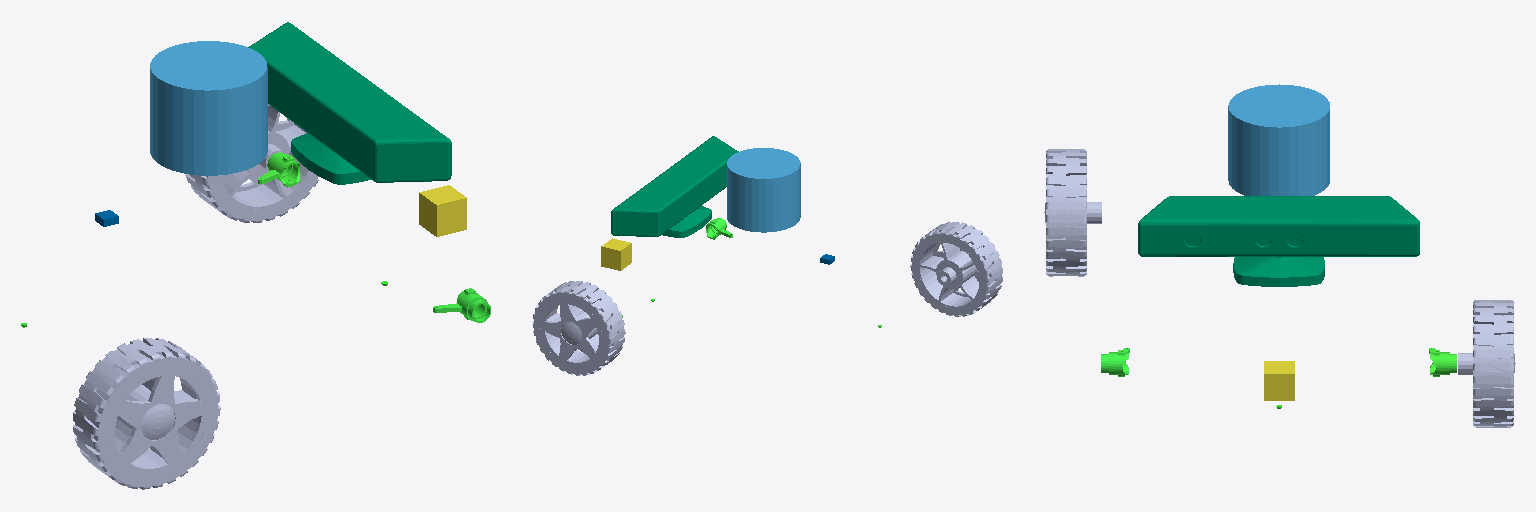
robot.urdf — cooneo_mini:
<?xml version="1.0" encoding="utf-8"?>
<!-- This URDF was automatically created by SolidWorks to URDF Exporter! Originally created by [author] ([email redacted]) 
     Commit Version: 1.5.1-0-g916b5db  Build Version: 1.5.7152.31018
     For more information, please see http://wiki.ros.org/sw_urdf_exporter -->
<robot
  name="cooneo_mini">
  <link
    name="base_link">
    <inertial>
      <origin
        xyz="0.030649671440691 -1.79069899872708E-05 0.0558717976709459"
        rpy="0 0 0" />
      <mass
        value="1.72617713171385" />
      <inertia
        ixx="0.0107311274569357"
        ixy="-3.24164649120244E-08"
        ixz="0.00169188715816868"
        iyy="0.0198871551919603"
        iyz="2.40252669081509E-07"
        izz="0.0269841937242323" />
    </inertial>
    <visual>
      <origin
        xyz="0 0 0"
        rpy="0 0 0" />
      <geometry>
        <mesh
          filename="package://cooneo_mini/meshes/base_link.STL" />
      </geometry>
      <material
        name="">
        <color
          rgba="0.250980392156863 0.250980392156863 0.250980392156863 1" />
      </material>
    </visual>
    <collision>
      <origin
        xyz="0 0 0"
        rpy="0 0 0" />
      <geometry>
        <mesh
          filename="package://cooneo_mini/meshes/base_link.STL" />
      </geometry>
    </collision>
  </link>
  <link
    name="rear_wheel_link">
    <inertial>
      <origin
        xyz="-8.88178419700125E-16 -2.05391259555654E-14 -0.00112500000001892"
        rpy="0 0 0" />
      <mass
        value="5.65486677646169E-05" />
      <inertia
        ixx="1.32005796313028E-10"
        ixy="-1.938704560671E-27"
        ixz="2.13770572261755E-26"
        iyy="1.32005796313028E-10"
        iyz="-7.60216295195271E-25"
        izz="2.03575203952622E-10" />
    </inertial>
    <visual>
      <origin
        xyz="0 0 0"
        rpy="0 0 0" />
      <geometry>
        <mesh
          filename="package://cooneo_mini/meshes/rear_wheel_link.STL" />
      </geometry>
      <material
        name="">
        <color
          rgba="0.274509803921569 1 0.247058823529412 1" />
      </material>
    </visual>
    <collision>
      <origin
        xyz="0 0 0"
        rpy="0 0 0" />
      <geometry>
        <mesh
          filename="package://cooneo_mini/meshes/rear_wheel_link.STL" />
      </geometry>
    </collision>
  </link>
  <joint
    name="rear_wheel_joint"
    type="continuous">
    <origin
      xyz="-0.181499999999597 0 0.0399999999987674"
      rpy="0 0 0" />
    <parent
      link="base_link" />
    <child
      link="rear_wheel_link" />
    <axis
      xyz="0 1 0" />
  </joint>
  <link
    name="left_rear_link">
    <inertial>
      <origin
        xyz="7.85229659072684E-11 -0.0196762547002777 4.85059770127805E-11"
        rpy="0 0 0" />
      <mass
        value="0.29556182905038" />
      <inertia
        ixx="0.000374087423652291"
        ixy="2.19336154342606E-13"
        ixz="-5.50404301757561E-12"
        iyy="0.000661017199375587"
        iyz="-5.10049385981967E-14"
        izz="0.000374087441459994" />
    </inertial>
    <visual>
      <origin
        xyz="0 0 0"
        rpy="0 0 0" />
      <geometry>
        <mesh
          filename="package://cooneo_mini/meshes/left_rear_link.STL" />
      </geometry>
      <material
        name="">
        <color
          rgba="0.792156862745098 0.819607843137255 0.933333333333333 1" />
      </material>
    </visual>
    <collision>
      <origin
        xyz="0 0 0"
        rpy="0 0 0" />
      <geometry>
        <mesh
          filename="package://cooneo_mini/meshes/left_rear_link.STL" />
      </geometry>
    </collision>
  </link>
  <joint
    name="left_rear_joint"
    type="continuous">
    <origin
      xyz="-0.181499999999595 0.228542434993694 0.0399999999991634"
      rpy="0 0 0" />
    <parent
      link="base_link" />
    <child
      link="left_rear_link" />
    <axis
      xyz="0 1 0" />
    <limit
      lower="-3.14"
      upper="3.14"
      effort="0"
      velocity="0" />
  </joint>
  <link
    name="right_rear_link">
    <inertial>
      <origin
        xyz="7.8521189550429E-11 0.0196762545376323 3.35983463273237E-11"
        rpy="0 0 0" />
      <mass
        value="0.295561829050389" />
      <inertia
        ixx="0.000374087423652306"
        ixy="-2.1933774523493E-13"
        ixz="5.50404145624456E-12"
        iyy="0.000661017199375601"
        iyz="-5.10073974604221E-14"
        izz="0.000374087441459995" />
    </inertial>
    <visual>
      <origin
        xyz="0 0 0"
        rpy="0 0 0" />
      <geometry>
        <mesh
          filename="package://cooneo_mini/meshes/right_rear_link.STL" />
      </geometry>
      <material
        name="">
        <color
          rgba="0.792156862745098 0.819607843137255 0.933333333333333 1" />
      </material>
    </visual>
    <collision>
      <origin
        xyz="0 0 0"
        rpy="0 0 0" />
      <geometry>
        <mesh
          filename="package://cooneo_mini/meshes/right_rear_link.STL" />
      </geometry>
    </collision>
  </link>
  <joint
    name="right_rear_joint"
    type="continuous">
    <origin
      xyz="-0.181499999999595 -0.228542434994426 0.0399999999991584"
      rpy="0 0 0" />
    <parent
      link="base_link" />
    <child
      link="right_rear_link" />
    <axis
      xyz="0 1 0" />
    <limit
      lower="-3.14"
      upper="3.14"
      effort="0"
      velocity="0" />
  </joint>
  <link
    name="front_steer_link">
    <inertial>
      <origin
        xyz="-2.1316282072803E-14 3.67778030252452E-11 -0.00112486602459905"
        rpy="0 0 0" />
      <mass
        value="5.65486677646163E-05" />
      <inertia
        ixx="1.32005796313026E-10"
        ixy="1.16322273640277E-26"
        ixz="1.20446157864484E-28"
        iyy="1.32005796313026E-10"
        iyz="-8.66481261175625E-27"
        izz="2.03575203952619E-10" />
    </inertial>
    <visual>
      <origin
        xyz="0 0 0"
        rpy="0 0 0" />
      <geometry>
        <mesh
          filename="package://cooneo_mini/meshes/front_steer_link.STL" />
      </geometry>
      <material
        name="">
        <color
          rgba="0.274509803921569 1 0.247058823529412 1" />
      </material>
    </visual>
    <collision>
      <origin
        xyz="0 0 0"
        rpy="0 0 0" />
      <geometry>
        <mesh
          filename="package://cooneo_mini/meshes/front_steer_link.STL" />
      </geometry>
    </collision>
  </link>
  <joint
    name="front_steer_joint"
    type="revolute">
    <origin
      xyz="0.172883370897628 0 -0.00376561854722868"
      rpy="0 0 0" />
    <parent
      link="base_link" />
    <child
      link="front_steer_link" />
    <axis
      xyz="0 0 1" />
    <limit
      lower="0"
      upper="0"
      effort="0"
      velocity="0" />
  </joint>
  <link 
    name="front_steer_right_link">
    <inertial>
      <origin
        xyz="-0.00287984917571293 -0.00386608730391069 -3.40232166884391E-07"
        rpy="0 0 0" />
      <mass
        value="0.0040422891288534" />
      <inertia
        ixx="3.86012893948649E-07"
        ixy="1.06107136042318E-07"
        ixz="3.79981674665978E-12"
        iyy="5.70282019991041E-07"
        iyz="-5.11429253547313E-13"
        izz="5.85222511682915E-07" />
    </inertial>
    <visual>
      <origin
        xyz="0 0 0"
        rpy="0 0 0" />
      <geometry>
        <mesh
          filename="package://cooneo_mini/meshes/front_steer_right_link.STL" />
      </geometry>
      <material
        name="">
        <color
          rgba="0.309803921568627 1 0.333333333333333 1" />
      </material>
    </visual>
    <collision>
      <origin
        xyz="0 0 0"
        rpy="0 0 0" />
      <geometry>
        <mesh
          filename="package://cooneo_mini/meshes/front_steer_right_link.STL" />
      </geometry>
    </collision>
  </link>
  <joint
    name="front_steer_right_joint"
    type="revolute">
    <origin
      xyz="0.166956116911345 -0.155841156930144 0.0396253020756132"
      rpy="0 0 0" />
    <parent
      link="base_link" />
    <child
      link="front_steer_right_link" />
    <axis
      xyz="0 0 -1" />
    <limit
      lower="-0.72"
      upper="0.72"
      effort="0"
      velocity="0" />
  </joint>
  <link
    name="front_right_wheel_link">
    <inertial>
      <origin
        xyz="9.44636555644252E-08 -0.000295273745285485 -8.13046296954667E-11"
        rpy="0 0 0" />
      <mass
        value="0.296315811300368" />
      <inertia
        ixx="0.000374692013709393"
        ixy="-9.17172260383823E-08"
        ixz="-2.43187512356516E-12"
        iyy="0.000661029987747155"
        iyz="1.9736939507106E-13"
        izz="0.000374691963930348" />
    </inertial>
    <visual>
      <origin
        xyz="0 0 0"
        rpy="0 0 0" />
      <geometry>
        <mesh
          filename="package://cooneo_mini/meshes/front_right_wheel_link.STL" />
      </geometry>
      <material
        name="">
        <color
          rgba="0.792156862745098 0.819607843137255 0.933333333333333 1" />
      </material>
    </visual>
    <collision>
      <origin
        xyz="0 0 0"
        rpy="0 0 0" />
      <geometry>
        <mesh
          filename="package://cooneo_mini/meshes/front_right_wheel_link.STL" />
      </geometry>
    </collision>
  </link>
  <joint
    name="front_right_wheel_joint"
    type="continuous">
    <origin
      xyz="0.000561692482209608 -0.0539588407104827 0"
      rpy="0 0 0" />
    <parent
      link="front_steer_right_link" />
    <child
      link="front_right_wheel_link" />
    <axis
      xyz="-0.000320310780620463 0.999999948700501 0" />
  </joint>
  <link
    name="front_steer_left_link">
    <inertial>
      <origin
        xyz="-0.00288108186855052 0.00386516380026081 3.42000268327425E-07"
        rpy="0 0 0" />
      <mass
        value="0.00404229099686961" />
      <inertia
        ixx="3.86080919831873E-07"
        ixy="-1.06166007770352E-07"
        ixz="-3.89689093687787E-12"
        iyy="5.70214085517416E-07"
        iyz="-5.05814872179496E-13"
        izz="5.85222543205337E-07" />
    </inertial>
    <visual>
      <origin
        xyz="0 0 0"
        rpy="0 0 0" />
      <geometry>
        <mesh
          filename="package://cooneo_mini/meshes/front_steer_left_link.STL" />
      </geometry>
      <material
        name="">
        <color
          rgba="0.333333333333333 1 0.309803921568627 1" />
      </material>
    </visual>
    <collision>
      <origin
        xyz="0 0 0"
        rpy="0 0 0" />
      <geometry>
        <mesh
          filename="package://cooneo_mini/meshes/front_steer_left_link.STL" />
      </geometry>
    </collision>
  </link>
  <joint
    name="front_steer_left_joint"
    type="revolute">
    <origin
      xyz="0.166955591258992 0.155840982540987 0.039624698003177"
      rpy="0 0 0" />
    <parent
      link="base_link" />
    <child
      link="front_steer_left_link" />
    <axis
      xyz="0 0 -1" />
    <limit
      lower="-0.72"
      upper="0.72"
      effort="0"
      velocity="0" />
  </joint>
  <link
    name="front_left_wheel_link">
    <inertial>
      <origin
        xyz="-3.99413835339146E-11 0.000295273997845347 1.08602016268833E-10"
        rpy="0 0 0" />
      <mass
        value="0.296315811293944" />
      <inertia
        ixx="0.00037469197851121"
        ixy="-1.84493877596723E-13"
        ixz="-9.50756757097929E-12"
        iyy="0.00066103001709398"
        iyz="-1.17866882205563E-13"
        izz="0.000374691969713977" />
    </inertial>
    <visual>
      <origin
        xyz="0 0 0"
        rpy="0 0 0" />
      <geometry>
        <mesh
          filename="package://cooneo_mini/meshes/front_left_wheel_link.STL" />
      </geometry>
      <material
        name="">
        <color
          rgba="0.792156862745098 0.819607843137255 0.933333333333333 1" />
      </material>
    </visual>
    <collision>
      <origin
        xyz="0 0 0"
        rpy="0 0 0" />
      <geometry>
        <mesh
          filename="package://cooneo_mini/meshes/front_left_wheel_link.STL" />
      </geometry>
    </collision>
  </link>
  <joint
    name="front_left_wheel_joint"
    type="continuous">
    <origin
      xyz="0.000544408740910995 0.0539590174648373 0"
      rpy="0 0 0" />
    <parent
      link="front_steer_left_link" />
    <child
      link="front_left_wheel_link" />
    <axis
      xyz="0 1 0" />    <!-- xyz="0 -1 0" -->
  </joint>

  <!--  手动添加激光雷达模型 -->
  <link name="laser_link">
    <visual>
      <geometry>
        <cylinder length="0.08" radius="0.05"/>
      </geometry>
    </visual>
  </link>
  <joint name ="2Dlaser_joints" type="fixed">
    <origin xyz="0.0 0.0 0.20" rpy="0.0 0.0 0.0"/>
    <parent link="base_link"/>
    <child link="laser_link"/>
  </joint>
  <!--*********************************************************************-->
 
  <!--  手动添加深度摄像头模型  -->
  <link name="deep_camera_link">
    <visual>
      <geometry>
        <mesh filename="package://cooneo_mini/meshes/kinect_Link.STL"/>
      </geometry>
    </visual>
  </link>
  <joint name ="deep_camera_joints" type="fixed">
    <origin xyz="0.10 0.0 0.17" rpy="-1.57 0.0 -1.57"/>
    <parent link="base_link"/>
    <child link="deep_camera_link"/>
  </joint>
  <!--*********************************************************************-->

 <!--  手动添加摄像头模型   -->
  <link name="camera_link">
    <visual>
      <geometry>
        <box size="0.03 0.03 0.03"/>
      </geometry>
    </visual>
  </link>
  <joint name ="camera_joints" type="fixed">
    <origin xyz="0.23 0.0 0.05" rpy="0.0 0.0 0.0"/>
    <parent link="base_link"/>
    <child link="camera_link"/>
  </joint>
  <!--*********************************************************************-->

  <!--  手动添加imu模型   -->
  <link name="imu_link">
    <visual>
      <geometry>
        <box size="0.015 0.015 0.007"/>
      </geometry>
    </visual>
  </link>
  <joint name ="imu_joints" type="fixed">
    <origin xyz="-0.10 0.0 0.12" rpy="0.0 0.0 0.0"/>
    <parent link="base_link"/>
    <child link="imu_link"/>
  </joint>
  <!--*********************************************************************-->

  <!--为link配置颜色-->
  <gazebo reference="base_link">
    <material>Gazebo/GreyTransparent </material>
  </gazebo>

  <gazebo reference="front_steer_left_link">
    <material>Gazebo/DarkGrey</material>
  </gazebo>

  <gazebo reference="front_steer_right_link">
    <material>Gazebo/DarkGrey</material>
  </gazebo>

  <gazebo reference="front_left_wheel_link">
    <material>Gazebo/Black</material>
  </gazebo>

  <gazebo reference="front_right_wheel_link">
    <material>Gazebo/Black</material>
  </gazebo>
  
  <gazebo reference="left_rear_link">
    <material>Gazebo/Black</material>
  </gazebo>

  <gazebo reference="right_rear_link">
    <material>Gazebo/Black</material>
  </gazebo>

  <gazebo reference="laser_link">
    <material>Gazebo/Black</material>
  </gazebo>

   <gazebo reference="deep_camera_link">
    <material>Gazebo/Black</material>
  </gazebo>

   <gazebo reference="camera_link">
    <material>Gazebo/Black</material>
  </gazebo>

  <gazebo reference="imu_link">
    <material>Gazebo/Black</material>
  </gazebo>
  <!--*********************************************************************-->


  <!--  add trans plugin to front steer_joint      -->
  <transmission name="front_steer_joint_trans">
    <type>transmission_interface/SimpleTransmission</type>
    <actuator name="front_steer_joint_motor">
      <mechanicalReduction>1</mechanicalReduction>
      <hardwareInterface>hardware_interface/PositionJointInterface</hardwareInterface>
    </actuator>
    <joint name="front_steer_joint">
      <hardwareInterface>hardware_interface/PositionJointInterface</hardwareInterface>
    </joint>
  </transmission>
  <!--*********************************************************************-->

  <!-- add trans plugins to steer_joint and steer wheel joint-->
  <transmission name="front_steer_right_joint_trans">
    <type>transmission_interface/SimpleTransmission</type>
    <actuator name="front_steer_right_joint_motor">
      <mechanicalReduction>1</mechanicalReduction>
      <hardwareInterface>hardware_interface/PositionJointInterface</hardwareInterface>
    </actuator>
    <joint name="front_steer_right_joint">
      <hardwareInterface>hardware_interface/PositionJointInterface</hardwareInterface>
    </joint>
  </transmission>

  <transmission name="front_right_wheel_joint_trans">
    <type>transmission_interface/SimpleTransmission</type>
    <actuator name="front_right_wheel_joint_motor">
      <mechanicalReduction>1</mechanicalReduction>
      <hardwareInterface>hardware_interface/VelocityJointInterface</hardwareInterface>
    </actuator>
    <joint name="front_right_wheel_joint">
      <hardwareInterface>hardware_interface/VelocityJointInterface</hardwareInterface>
    </joint>
  </transmission>

  <transmission name="front_steer_left_joint_trans">
    <type>transmission_interface/SimpleTransmission</type>
    <actuator name="front_steer_left_joint_motor">
      <mechanicalReduction>1</mechanicalReduction>
      <hardwareInterface>hardware_interface/PositionJointInterface</hardwareInterface>
    </actuator>
    <joint name="front_steer_left_joint">
      <hardwareInterface>hardware_interface/PositionJointInterface</hardwareInterface>
    </joint>
  </transmission>

  <transmission name="front_left_wheel_joint_trans">
    <type>transmission_interface/SimpleTransmission</type>
    <actuator name="front_left_wheel_joint_motor">
      <mechanicalReduction>1</mechanicalReduction>
      <hardwareInterface>hardware_interface/VelocityJointInterface</hardwareInterface>
    </actuator>
    <joint name="front_left_wheel_joint">
      <hardwareInterface>hardware_interface/VelocityJointInterface</hardwareInterface>
    </joint>
  </transmission>
  <!--*********************************************************************-->

  <!-- add trans plugin to rear wheel joint-->
  <transmission name="left_rear_joint_trans">
    <type>transmission_interface/SimpleTransmission</type>
    <actuator name="left_rear_joint_motor">
      <mechanicalReduction>1</mechanicalReduction>
      <hardwareInterface>hardware_interface/VelocityJointInterface</hardwareInterface>
    </actuator>
    <joint name="left_rear_joint">
      <hardwareInterface>hardware_interface/VelocityJointInterface</hardwareInterface>
    </joint>
  </transmission>

  <transmission name="right_rear_joint_trans">
    <type>transmission_interface/SimpleTransmission</type>
    <actuator name="right_rear_joint_motor">
      <mechanicalReduction>1</mechanicalReduction>
      <hardwareInterface>hardware_interface/VelocityJointInterface</hardwareInterface>
    </actuator>
    <joint name="right_rear_joint">
      <hardwareInterface>hardware_interface/VelocityJointInterface</hardwareInterface>
    </joint>
  </transmission>
  <!--*********************************************************************-->

  <!--  add gazebo_ros_control plugin -->
  <gazebo>
    <plugin name="gazebo_ros_control" filename="libgazebo_ros_control.so">
      <robotNamespace>/</robotNamespace>
      <robotSimType>steer_bot_hardware_gazebo/SteerBotHardwareGazebo</robotSimType>
    </plugin>
  </gazebo>
  <!--*********************************************************************-->


</robot>

--- Render facts (derived) ---
3 views of the same robot in one strip: view 1: azimuth 30°, elevation 25°; view 2: azimuth 150°, elevation 25°; view 3: azimuth 270°, elevation 25° (orthographic).
Model cooneo_mini with 13 links and 12 joints (3 revolute, 5 continuous, 4 fixed), rooted at base_link, posed all joints at 0.
Links seen in each view (by area): view 1: deep_camera_link, right_rear_link, laser_link, front_left_wheel_link, camera_link, front_steer_right_link, front_steer_left_link; view 2: deep_camera_link, front_left_wheel_link, right_rear_link, laser_link, camera_link; view 3: deep_camera_link, laser_link, front_left_wheel_link, right_rear_link, camera_link, front_steer_right_link, front_steer_left_link.
Boxes of the visible links, bbox=[...] form: deep_camera_link: bbox=[248, 22, 451, 184]; right_rear_link: bbox=[73, 338, 220, 489]; laser_link: bbox=[150, 41, 267, 175]; front_left_wheel_link: bbox=[185, 104, 318, 222]; camera_link: bbox=[419, 185, 466, 236]; front_steer_right_link: bbox=[433, 288, 490, 322]; front_steer_left_link: bbox=[258, 152, 299, 187]; deep_camera_link: bbox=[611, 136, 738, 237]; front_left_wheel_link: bbox=[532, 281, 625, 375]; right_rear_link: bbox=[910, 222, 1002, 316]; laser_link: bbox=[727, 148, 800, 232]; camera_link: bbox=[601, 238, 631, 270]; deep_camera_link: bbox=[1138, 196, 1419, 286]; laser_link: bbox=[1228, 84, 1329, 195]; front_left_wheel_link: bbox=[1458, 300, 1515, 427]; right_rear_link: bbox=[1044, 149, 1101, 276]; camera_link: bbox=[1264, 361, 1294, 400]; front_steer_right_link: bbox=[1101, 348, 1129, 376]; front_steer_left_link: bbox=[1429, 348, 1456, 376].
Bounding box of the posed robot: 0.489 × 0.4614 × 0.2629 m (x, y, z).
Meshes: 10 distinct files referenced, 7 mesh visuals loaded (7 binary STL); not drawn: 3 (reference not matched to a file when rendering).
